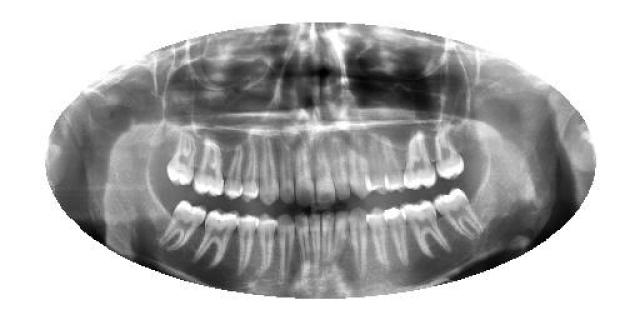Fillings: (386, 205, 412, 267)
